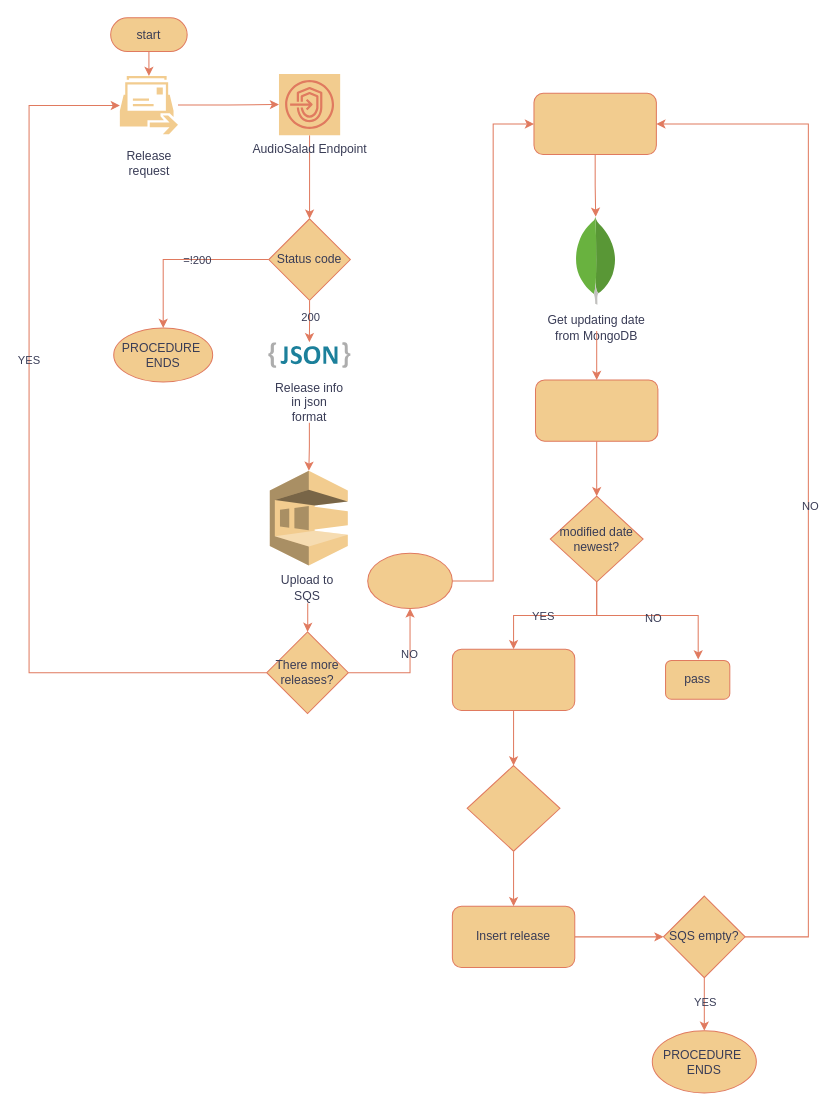
The diagram is 836 pixels wide and 1111 high, and some of its shapes have lost their labels. The shapes that lost their labels are listed below. From the top down, each one's centre as x and y in pixels, then its label:
the point at 594,123: Get data from SQS
the point at 596,410: Compare updating date and modified date in release
the point at 409,580: Get Data Ends
the point at 513,679: Update existing release
the point at 513,807: New release?
